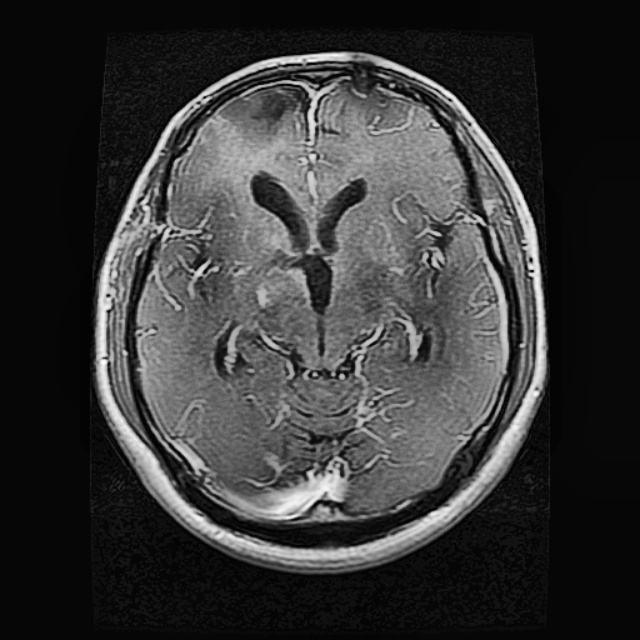Glioma: (219, 83, 303, 144)
